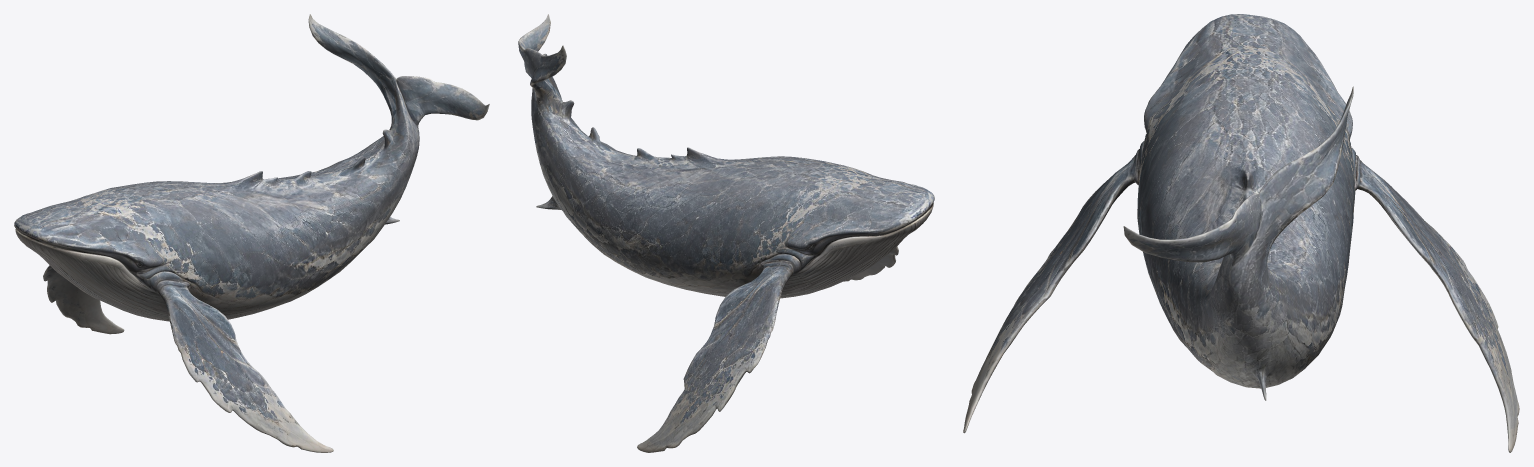
File: tide-michao-lod0.glb
The picture shows the model from 3 angles, left to right: view 1: azimuth 30°, elevation 25°; view 2: azimuth 150°, elevation 25°; view 3: azimuth 270°, elevation 25°; orthographic projection. The views are drawn at different scales.
Visible parts, largest first — view 1: tide-michao_SourceMesh; view 2: tide-michao_SourceMesh; view 3: tide-michao_SourceMesh.
Boxes of the visible parts, bbox=[...] form: tide-michao_SourceMesh: bbox=[14, 14, 489, 452]; tide-michao_SourceMesh: bbox=[518, 14, 934, 452]; tide-michao_SourceMesh: bbox=[963, 14, 1519, 452].
Bounding box in the file's own units: 3.13 × 2.3 × 2.54.
Materials: 1 (1 with a texture image).
